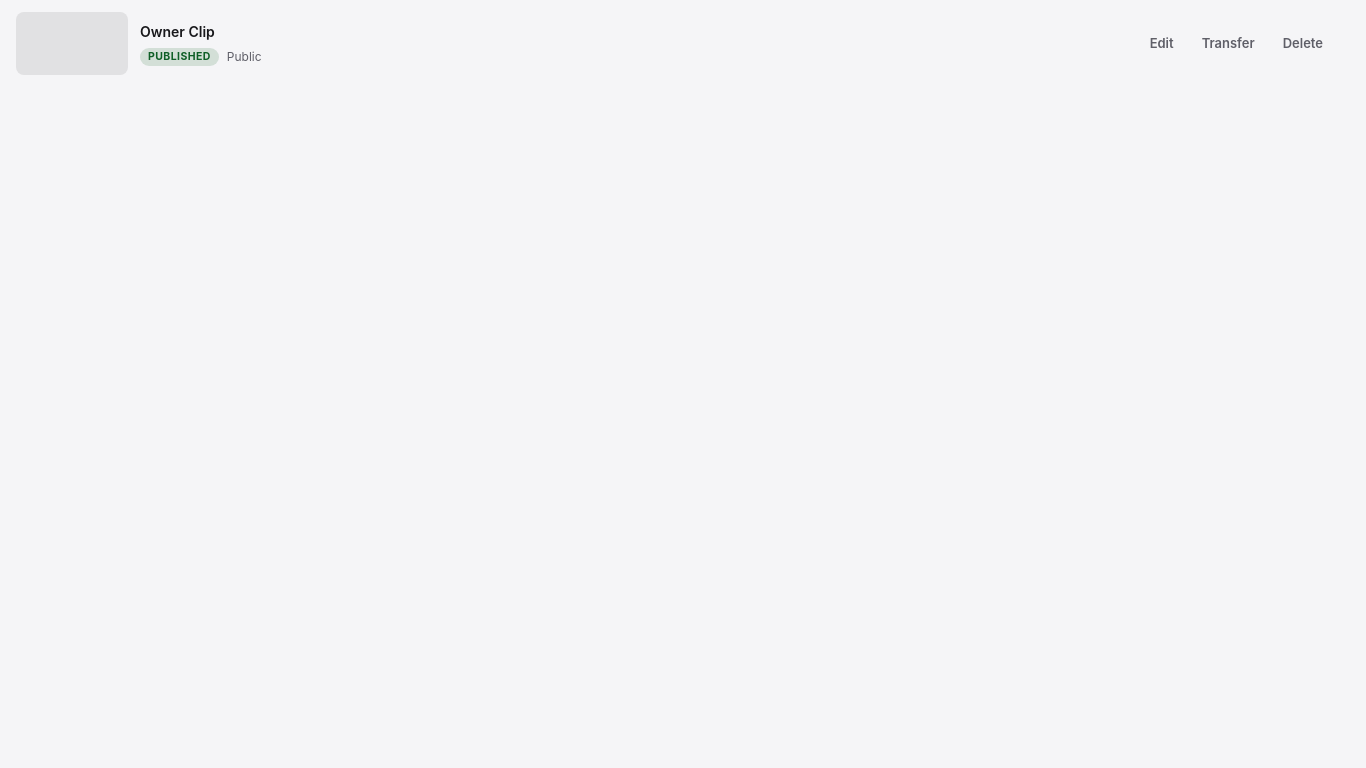
Test case: VideoRow — transfer ownership › opens the transfer dialog for the owner of a settled video
The image size is (1366, 768).
Click the button "Transfer". click: (1228, 44)
box: [1190,28,1267,59]
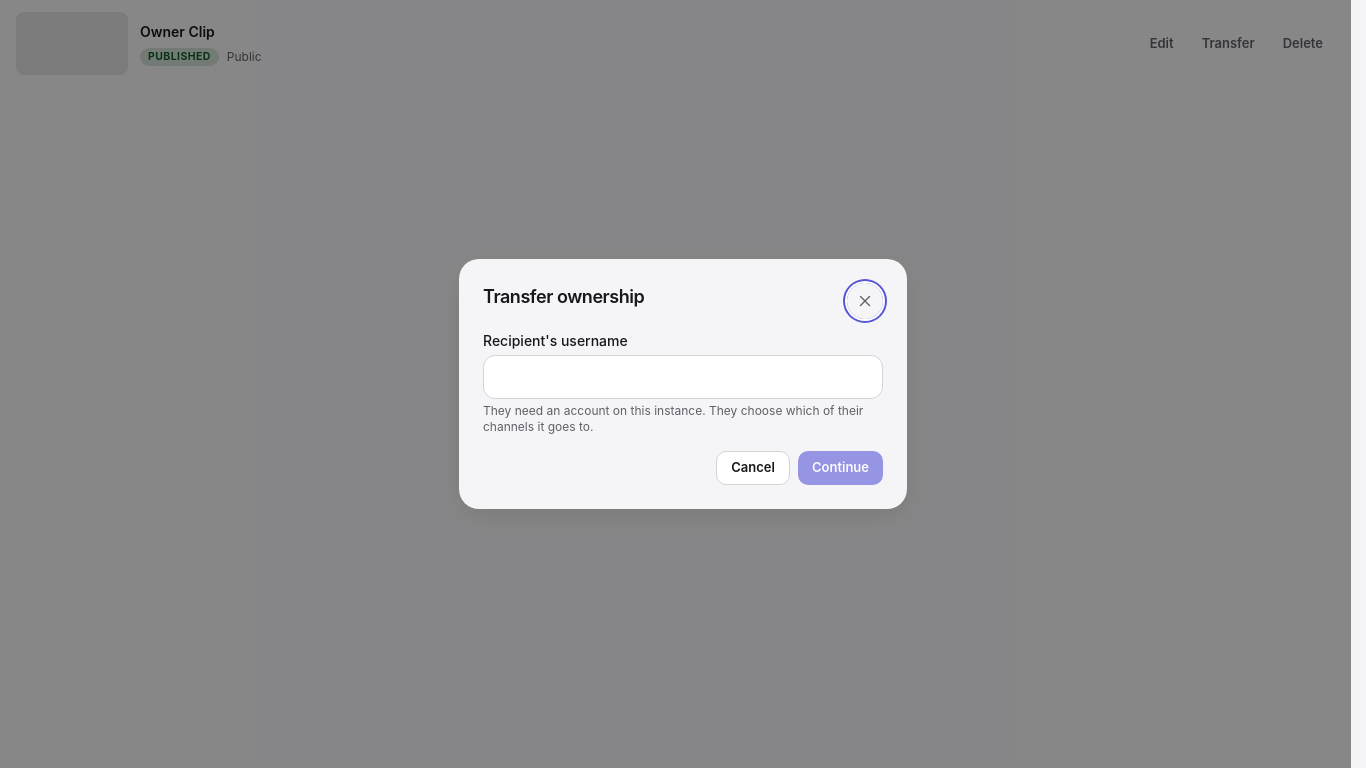
Expected: the dialog "Transfer ownership" is shown, [459,259,907,509]
Expected: the field labelled "Recipient's username" is shown, [483,355,883,399]
